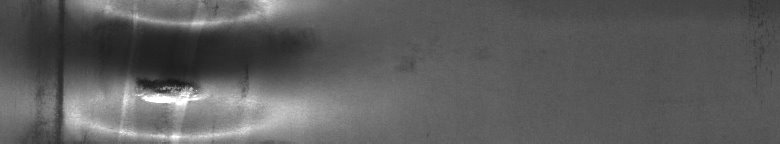ke: (52, 4, 260, 136)
